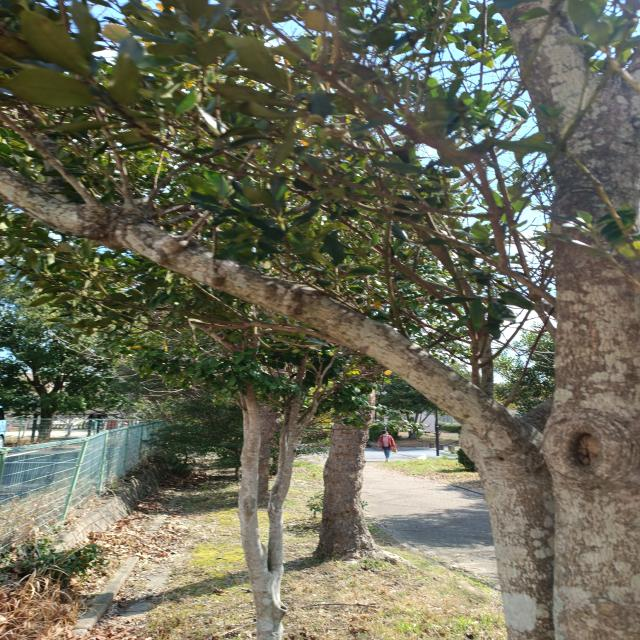Branch: (0, 167, 526, 466)
Twig: (408, 222, 493, 397)
